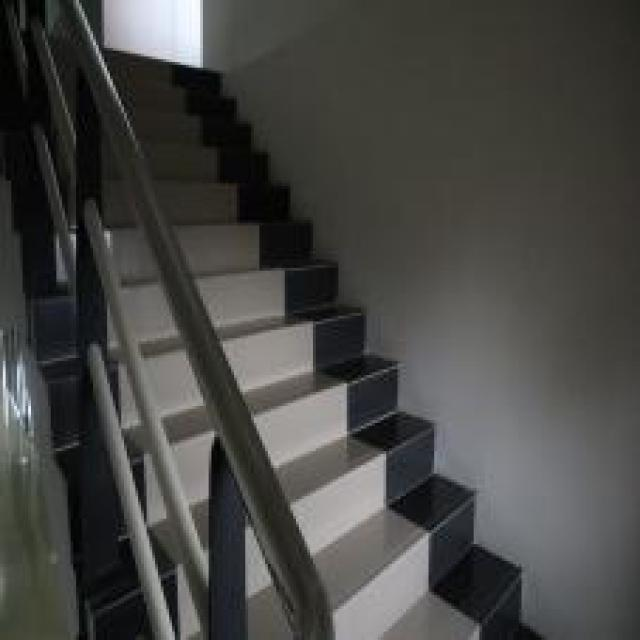upstair: (151, 57, 292, 303)
